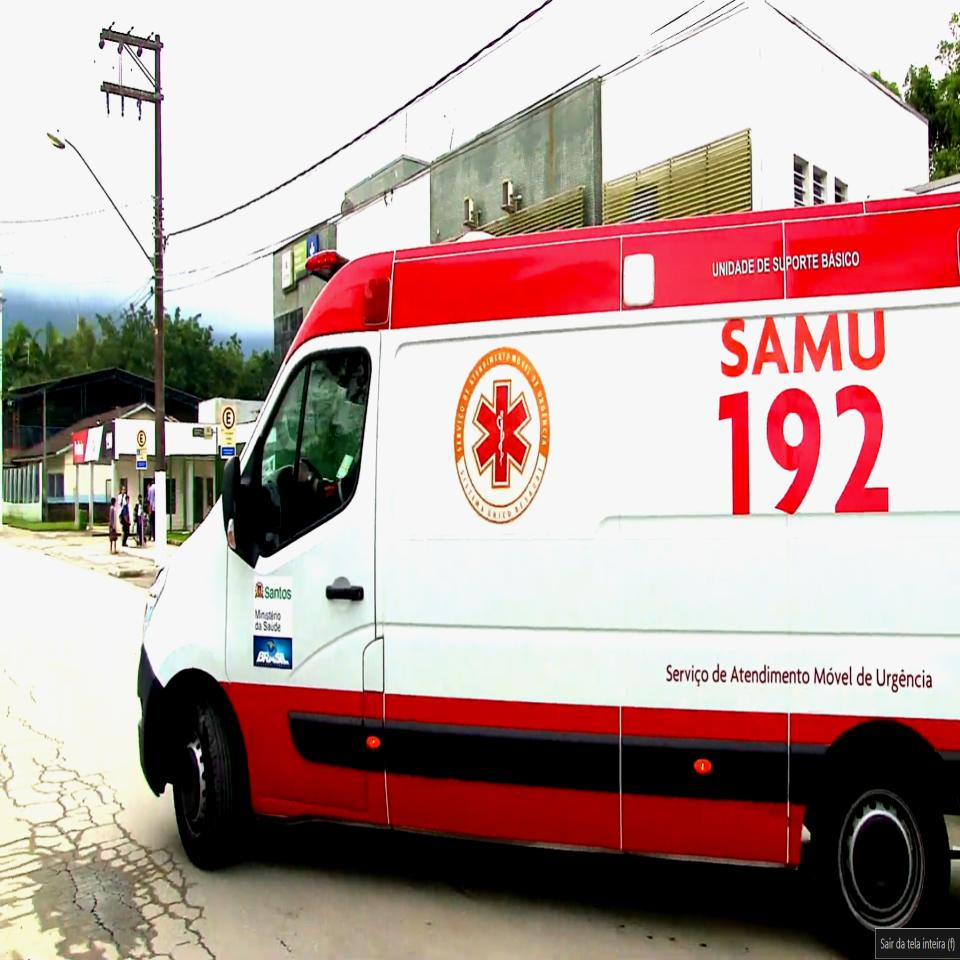ambulancia: (135, 187, 960, 960)
